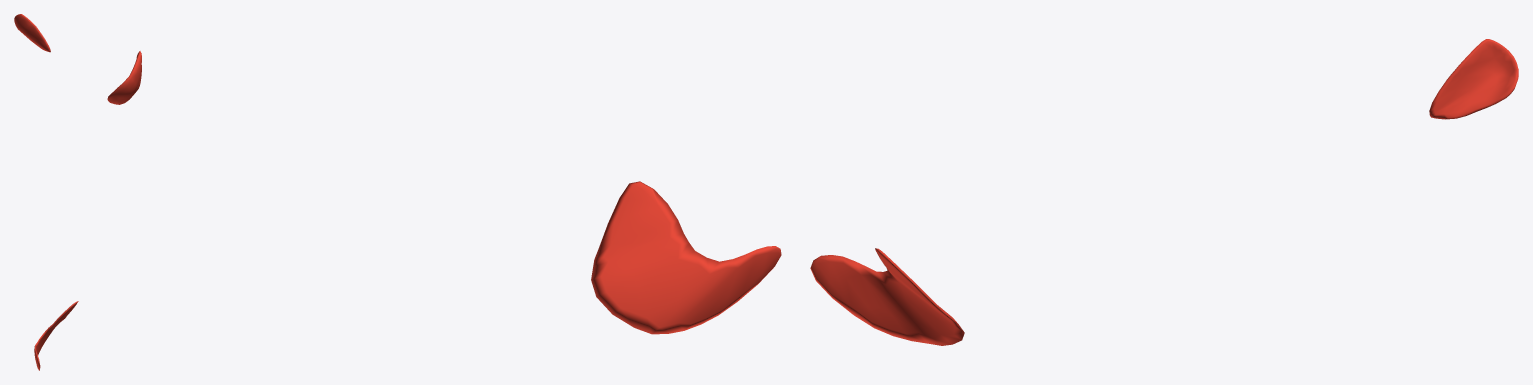
The model's file is Levator_ani-Pubic_and_ischiatic_insertions.l_Generated_Mesh_Fro.glb.
3 renders of one model, left to right at view 1: azimuth 30°, elevation 25°; view 2: azimuth 150°, elevation 25°; view 3: azimuth 270°, elevation 25°, orthographic. The views are drawn at different scales.
Visible parts, largest first — view 1: Levator_ani-Pubic_and_ischiatic_insertions.l_Generated_Mesh_; view 2: Levator_ani-Pubic_and_ischiatic_insertions.l_Generated_Mesh_; view 3: Levator_ani-Pubic_and_ischiatic_insertions.l_Generated_Mesh_.
Boxes of the visible parts, x1,y1,x2,y2 form: Levator_ani-Pubic_and_ischiatic_insertions.l_Generated_Mesh_: (14,14,78,370); Levator_ani-Pubic_and_ischiatic_insertions.l_Generated_Mesh_: (107,51,781,334); Levator_ani-Pubic_and_ischiatic_insertions.l_Generated_Mesh_: (810,39,1518,345).
Size of the model in its own units: 0.0397 by 0.0485 by 0.0728.
